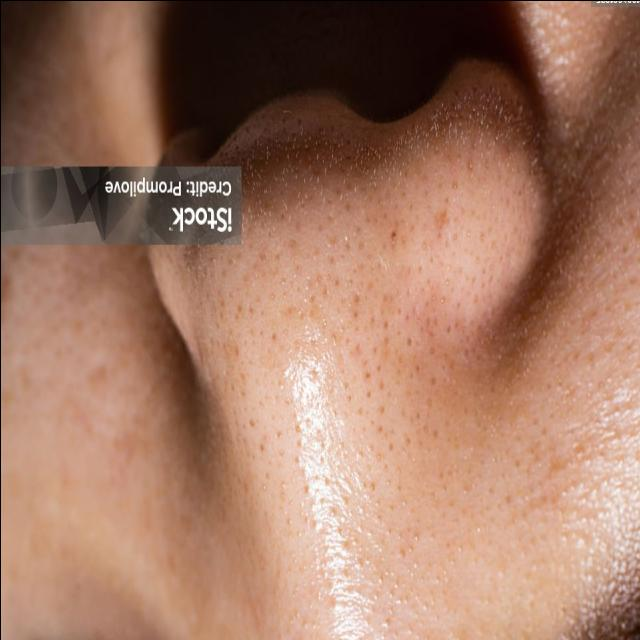blackhead: (194, 92, 640, 640)
